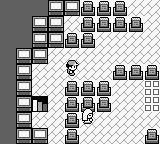main: (66, 60, 78, 76)
no-caminable: (16, 1, 79, 143), (0, 1, 47, 143), (64, 1, 144, 48), (65, 81, 112, 143), (113, 64, 160, 79), (144, 128, 159, 143)
npc: (82, 109, 94, 124)
recuperarse: (145, 81, 160, 113)
